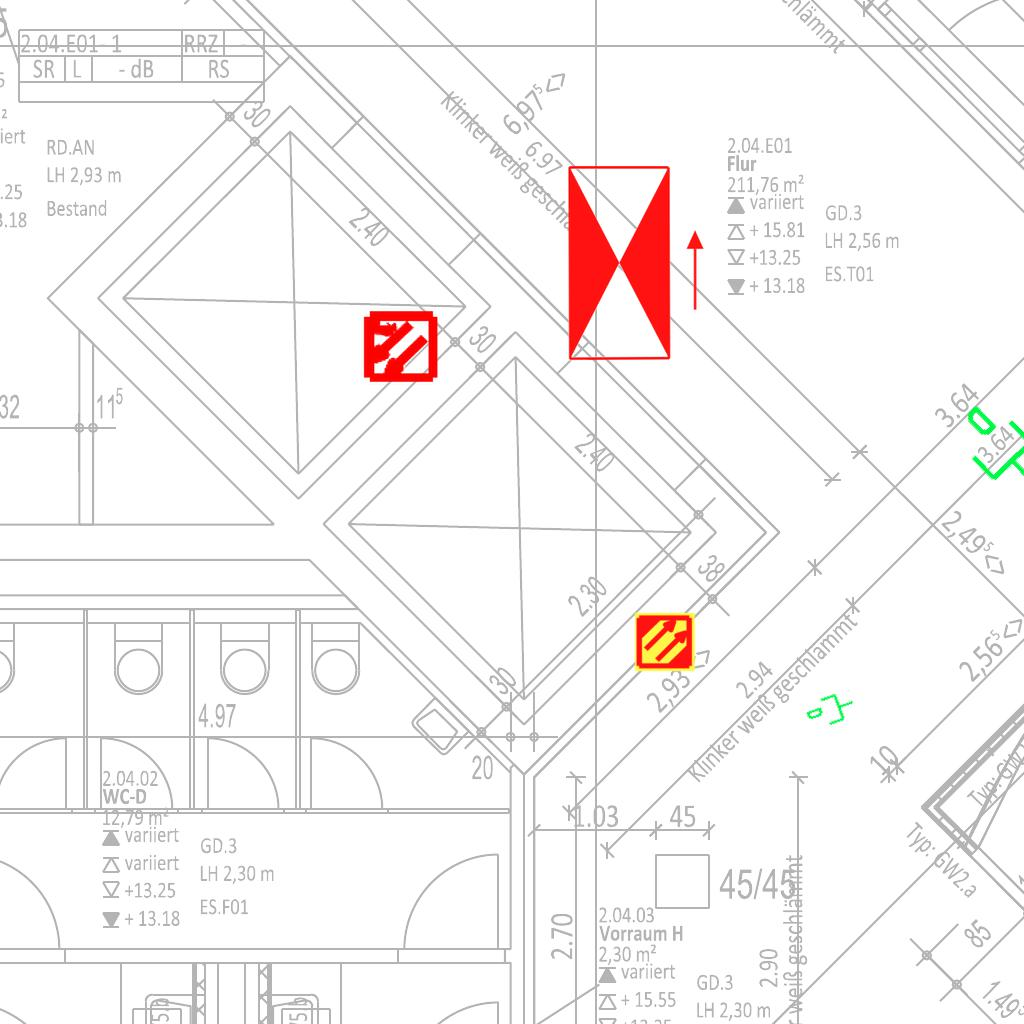ASR_Ansaugrauchmelder: (634, 611, 696, 673)
Datenanschluss_einfach: (938, 389, 1024, 509), (801, 686, 861, 736)
Fluchtwegpiktogramm: (562, 159, 709, 367)
OT_Multisensormelder_(Kombination_RMO_WMD): (342, 290, 455, 403)
